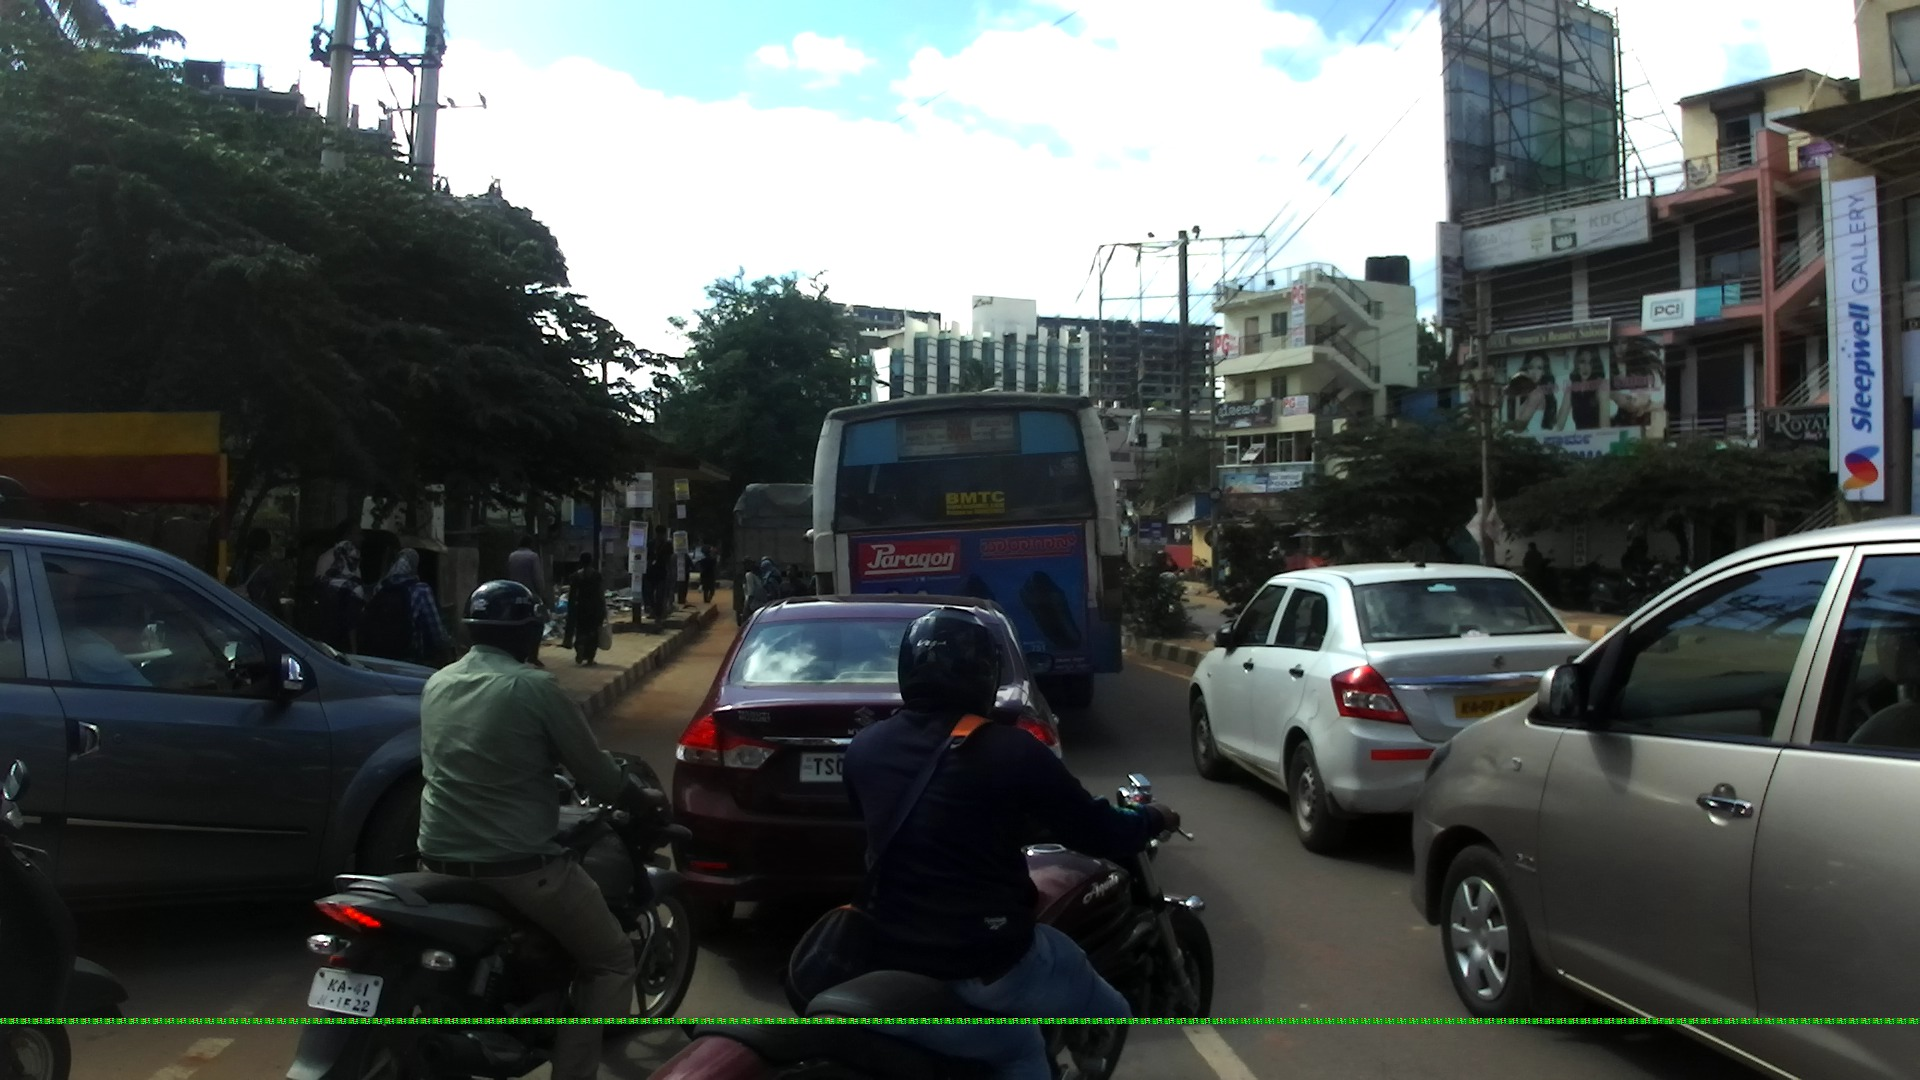autorickshaw: (285, 526, 455, 670)
bus: (810, 385, 1127, 714)
car: (1411, 515, 1920, 1080), (1, 475, 469, 931), (669, 593, 1064, 941), (1187, 561, 1592, 854), (687, 545, 717, 574)
motorcycle: (646, 773, 1215, 1078), (286, 747, 700, 1079), (5, 760, 80, 1076), (1624, 558, 1697, 618), (1587, 558, 1660, 613), (1558, 553, 1606, 610), (1517, 548, 1561, 606), (1134, 567, 1188, 600), (1494, 548, 1515, 572)
person: (367, 548, 460, 671), (310, 518, 367, 657), (309, 542, 374, 658), (505, 534, 550, 668), (563, 552, 611, 670), (228, 528, 284, 621), (638, 525, 676, 632), (739, 555, 765, 623), (1522, 541, 1546, 597), (696, 548, 717, 605), (778, 566, 811, 600), (757, 557, 782, 599), (678, 551, 692, 603), (761, 555, 780, 588)
rider: (822, 603, 1131, 1072), (414, 577, 665, 1078), (1617, 536, 1648, 608), (1140, 549, 1179, 579)
truck: (733, 482, 817, 626)
